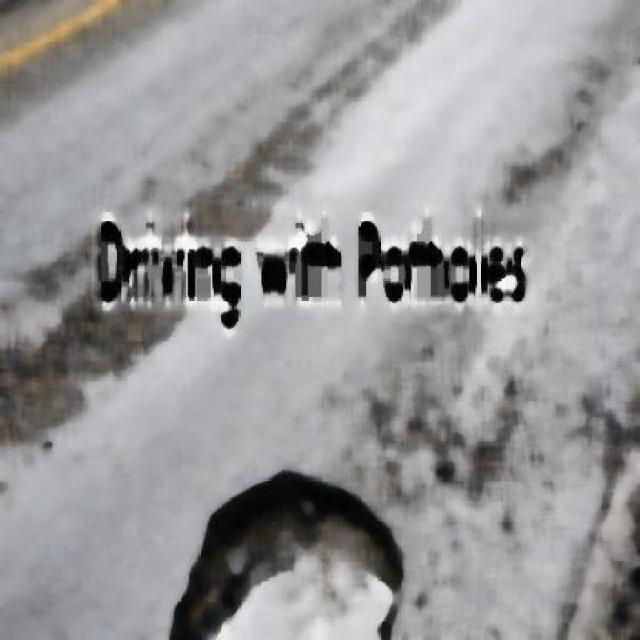Pothole: (190, 462, 396, 638)
